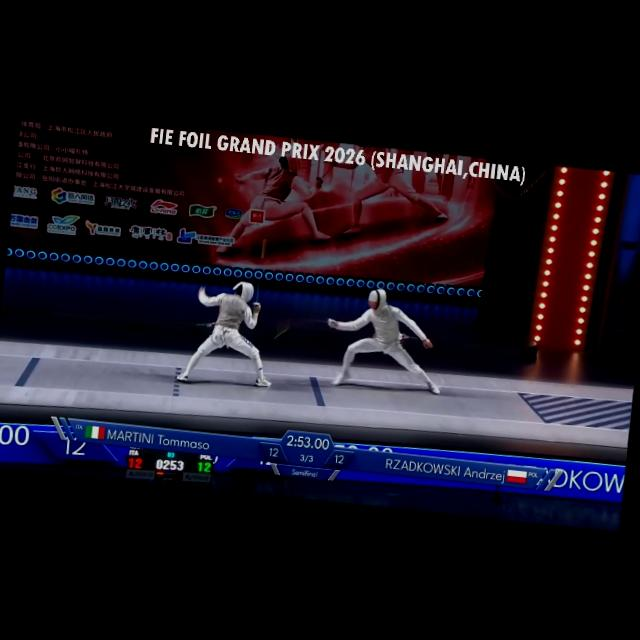blade: (274, 308, 336, 346), (250, 235, 273, 312)
